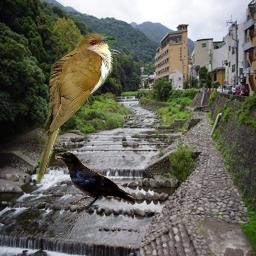Crow: (55, 152, 136, 208)
Cuckoo: (35, 33, 116, 184)
